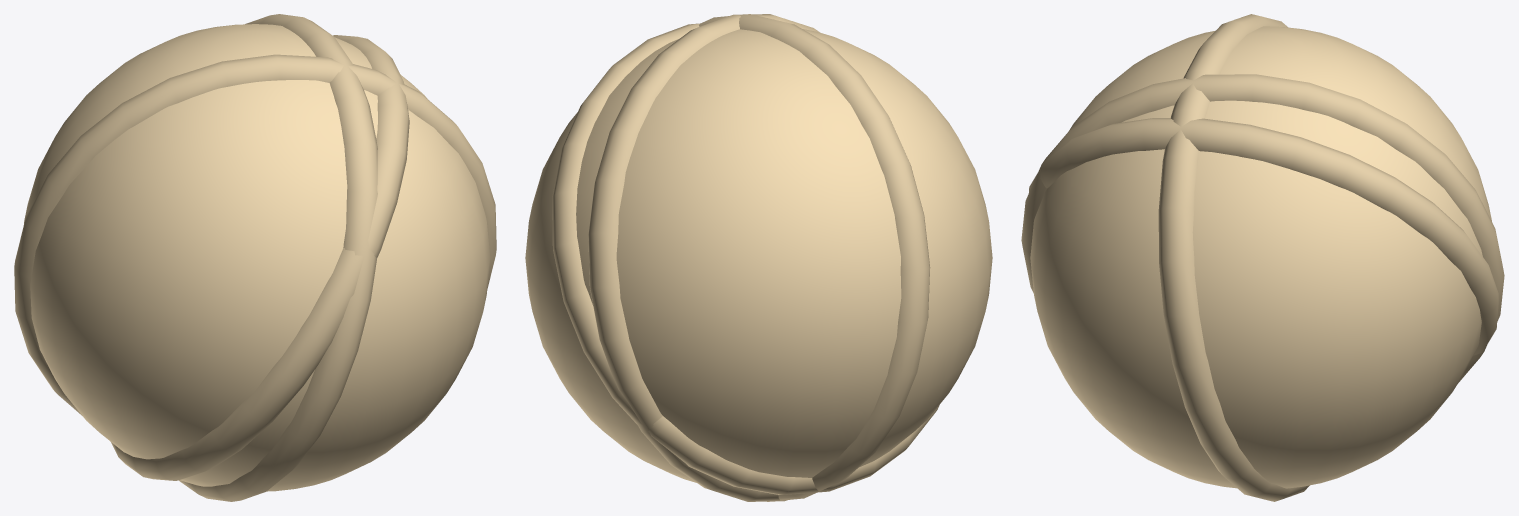
Rendered from ovillo_de_trabajo.glb.
3 views of the same model, side by side, from view 1: azimuth 30°, elevation 25°; view 2: azimuth 150°, elevation 25°; view 3: azimuth 270°, elevation 25° (orthographic).
Visible parts, largest first — view 1: Bola [bola], Vuelta (×3); view 2: Bola [bola], Vuelta (×3); view 3: Bola [bola], Vuelta (×3).
Boxes of the visible parts, box(x1,y1,x2,y2) form: Bola [bola]: box(24, 24, 490, 491); Vuelta (×3): box(14, 14, 496, 501); Bola [bola]: box(525, 29, 992, 482); Vuelta (×3): box(552, 14, 939, 501); Bola [bola]: box(1030, 26, 1491, 488); Vuelta (×3): box(1021, 14, 1504, 501).
Bounding box in the file's own units: 1 × 1.03 × 1.04.
